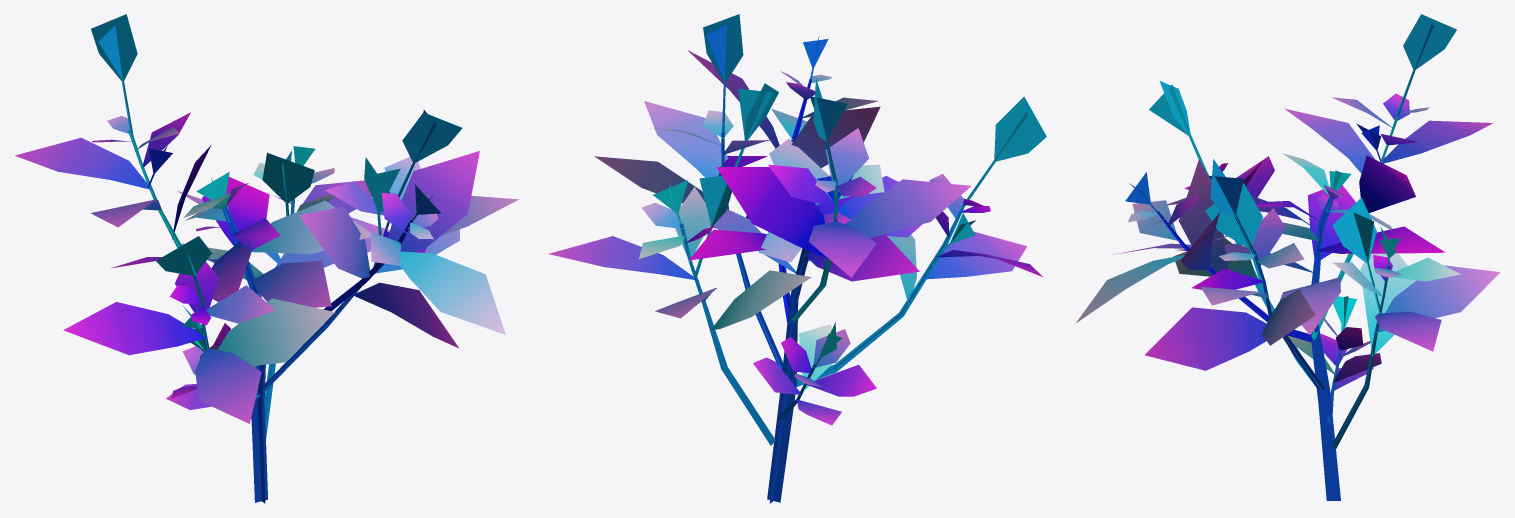
The model's file is xefmcgrqx_VarD_LOD1.fbx.
The picture shows the model from 3 angles, left to right: view 1: azimuth 30°, elevation 25°; view 2: azimuth 150°, elevation 25°; view 3: azimuth 270°, elevation 25°; orthographic projection. The views are drawn at different scales.
Visible parts, largest first — view 1: _dkmc_VarD_LOD4; view 2: _dkmc_VarD_LOD4; view 3: _dkmc_VarD_LOD4.
Part boxes in pixels (box(x1,y1,x2,y2)): _dkmc_VarD_LOD4: box(15, 14, 518, 503); _dkmc_VarD_LOD4: box(549, 14, 1046, 503); _dkmc_VarD_LOD4: box(1076, 14, 1500, 501).
Size of the model in its own units: 58.95 by 62.75 by 54.17.
